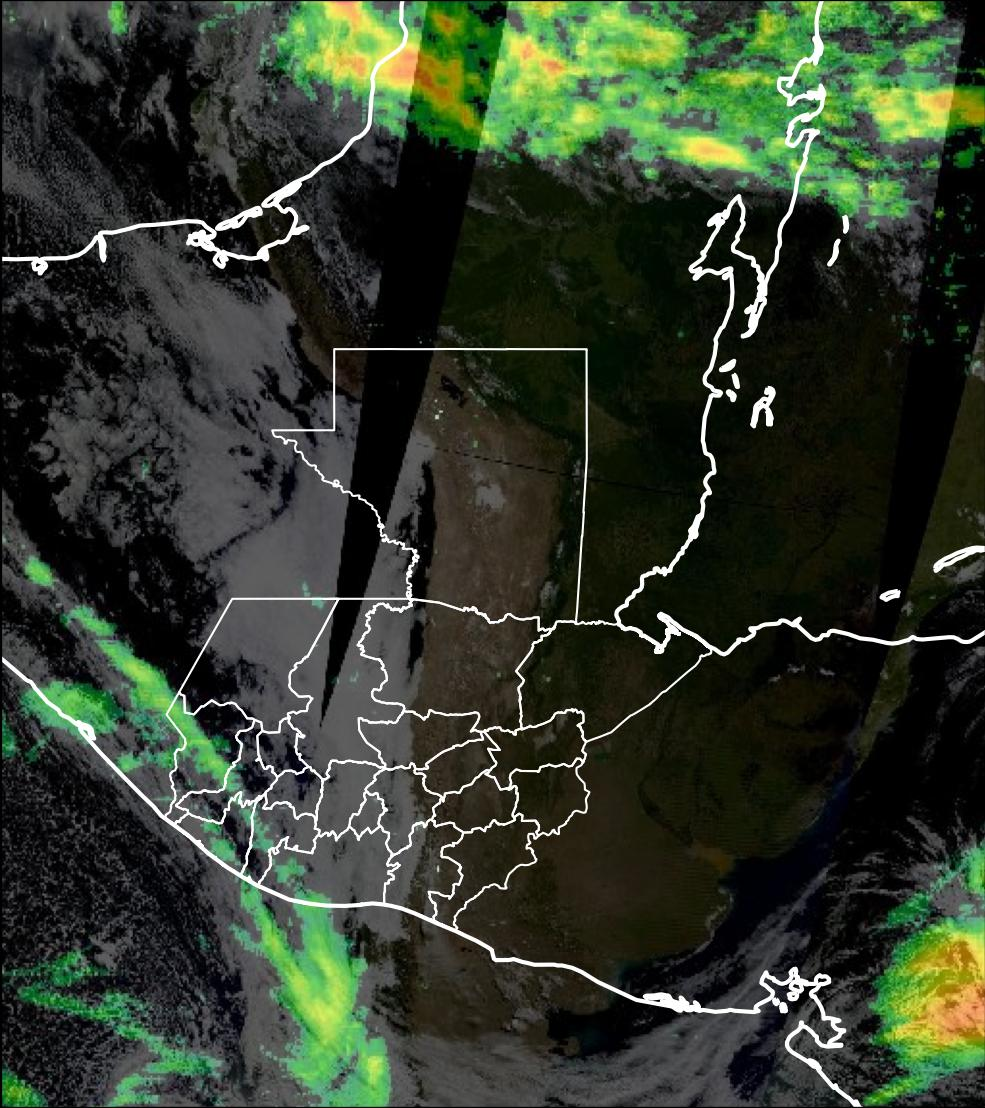precipitacion: (889, 931, 985, 1060), (379, 49, 470, 124)
